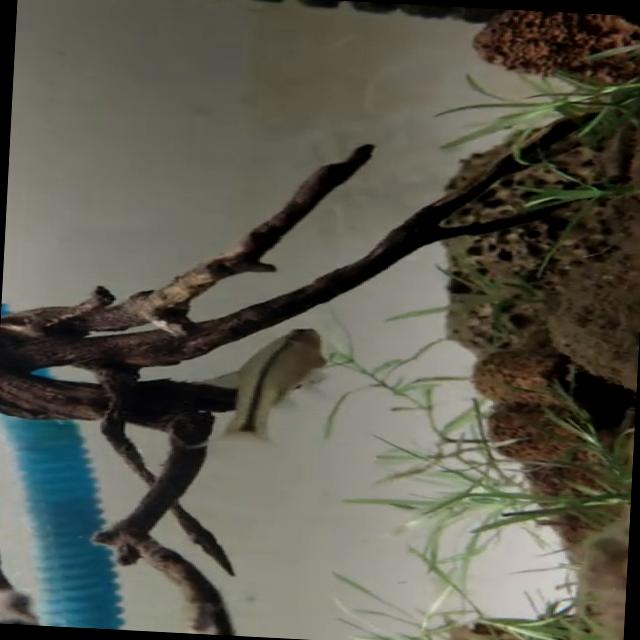Cakil Baligi: (186, 320, 336, 455)
